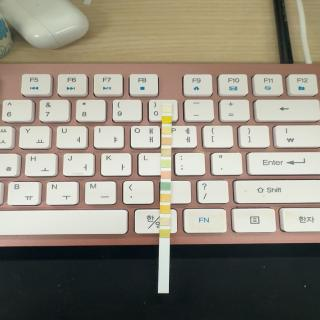mark: (160, 229, 170, 238), (161, 182, 171, 191), (160, 205, 170, 213), (161, 159, 171, 167), (162, 116, 172, 124), (162, 171, 171, 179), (162, 148, 171, 156), (162, 137, 171, 145), (160, 218, 170, 225), (160, 195, 170, 202), (162, 127, 172, 134), (162, 106, 172, 112)
